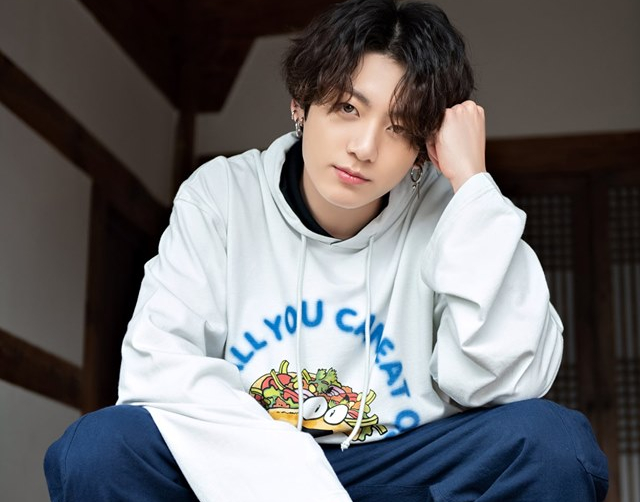people: (45, 1, 608, 502)
